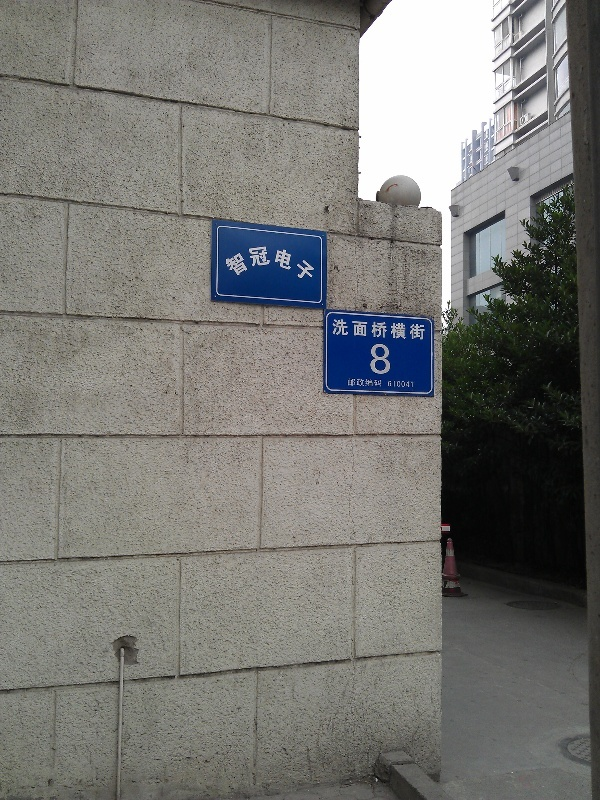text: (241, 244, 256, 280), (257, 244, 272, 280), (273, 244, 288, 280), (289, 244, 304, 280), (226, 244, 240, 280), (370, 343, 384, 375), (305, 244, 316, 280), (337, 319, 352, 341), (353, 319, 368, 341), (369, 319, 384, 341), (385, 319, 400, 341), (401, 319, 416, 341), (385, 343, 392, 375), (417, 319, 426, 341), (353, 378, 368, 388), (369, 378, 383, 388), (401, 380, 415, 389), (388, 380, 400, 389), (332, 319, 336, 341), (347, 378, 352, 388)
